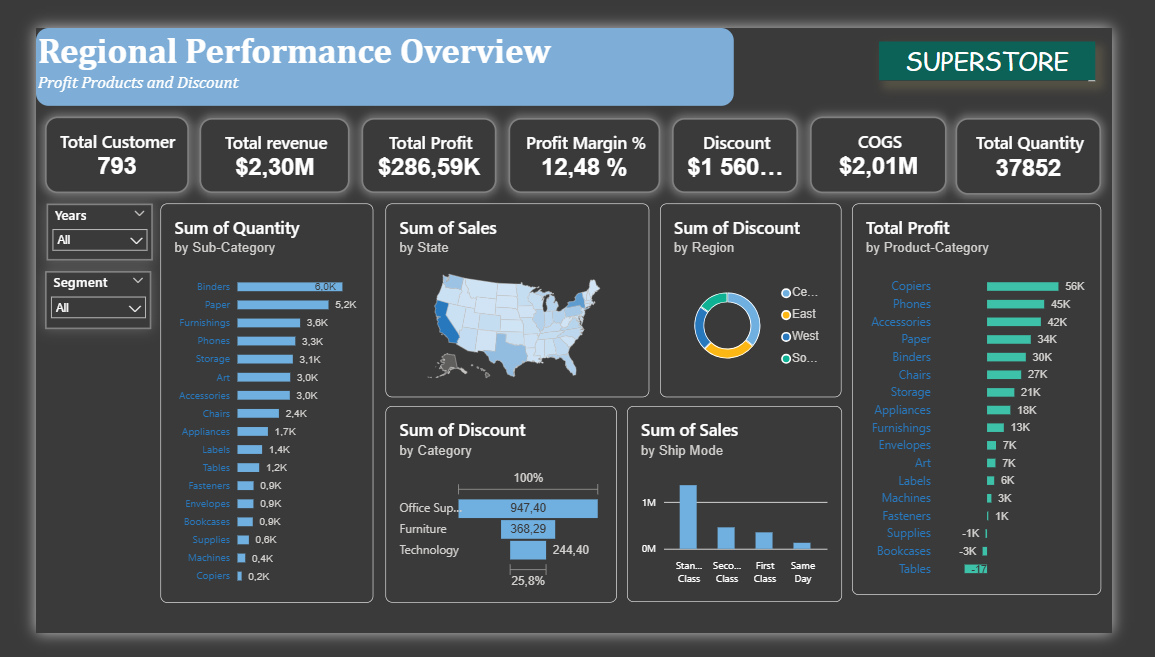

Layout of this report page (visuals, bound fields, positions):
{"tool":"powerbi","page":{"name":"Regional","canvas":[1280,720],"ordinal":2},"visuals":[{"type":"textbox","title":"Regional Performance Overview","box":[0,0,830.4,92.9],"z":0},{"type":"slicer","fields":{"Values":["Sample - Superstore - Sample - Superstore csv (3).Segment"]},"box":[10.7,289.3,126.8,69.6],"z":6000},{"type":"slicer","fields":{"Values":["Sample - Superstore - Sample - Superstore csv (3).Order Year"]},"box":[12.5,208.9,126.8,67.9],"z":7000},{"type":"clusteredBarChart","title":"Total Profit","fields":{"Category":["Superstore.Sub-Category"],"Y":["Sum(Superstore.Profit)"]},"box":[971.4,208.9,296.4,466.1],"z":8000},{"type":"textbox","title":"SUPERSTORE","box":[1003.9,16.3,257.1,47.2],"z":10000},{"type":"shapeMap","fields":{"Value":["Sum(Superstore.Sales)"],"Category":["Superstore.State"]},"box":[416.1,208.9,314.3,230.4],"z":11000},{"type":"clusteredBarChart","fields":{"Y":["Sum(Superstore.Quantity)"],"Category":["Superstore.Sub-Category"]},"box":[148.2,208.9,253.6,475],"z":12000},{"type":"funnel","fields":{"Y":["Sum(Superstore.Discount)"],"Category":["Superstore.Category"]},"box":[416.1,450,275,233.9],"z":13000},{"type":"donutChart","fields":{"Category":["Superstore.Region"],"Y":["Sum(Superstore.Discount)"]},"box":[742.9,208.9,216.1,230.4],"z":14000},{"type":"clusteredColumnChart","fields":{"Y":["Sum(Superstore.Sales)"],"Category":["Superstore.Ship Mode"]},"box":[703.5,450.9,256.1,233.3],"z":15000},{"type":"card","title":"Total revenue","fields":{"Values":["Sum(Sample - Superstore - Sample - Superstore csv (3).Sales)"]},"box":[194.6,107.1,178.6,89.3],"z":15001},{"type":"card","title":"Total Profit","fields":{"Values":["Sum(Sample - Superstore - Sample - Superstore csv (3).Profit)"]},"box":[387.5,107.1,160.7,89.3],"z":15002},{"type":"card","title":"Profit Margin %","fields":{"Values":["Superstore.total profit margin"]},"box":[562.5,107.1,180.4,89.3],"z":15003},{"type":"card","title":"Total Quantity","fields":{"Values":["Sum(Sample - Superstore - Sample - Superstore csv (3).Quantity)"]},"box":[1094.6,107.1,173.2,91.1],"z":15004},{"type":"card","title":" Discount","fields":{"Values":["Sum(Sample - Superstore - Sample - Superstore csv (3).Discount)"]},"box":[757.1,107.1,150,89.3],"z":15005},{"type":"card","title":"COGS","fields":{"Values":["Sum(Superstore.Cost of goods sold)"]},"box":[921.4,105.4,162.5,91.1],"z":15006},{"type":"card","title":"Total Customer","fields":{"Values":["Count(Superstore.Customer Name)"]},"box":[10.7,105.4,171.4,91.1],"z":15007}]}

Visuals, with their boxes in screenshot pixels (x1, y1, x2, y2), scaled from the page's 1280x720 canvas onto the 1155x657 screenshot:
"Regional Performance Overview" textbox: rect(0, 0, 749, 85)
slicer - Sample - Superstore - Sample - Superstore csv (3).Segment: rect(10, 264, 124, 327)
slicer - Sample - Superstore - Sample - Superstore csv (3).Order Year: rect(11, 191, 126, 253)
"Total Profit" clusteredBarChart: rect(877, 191, 1144, 616)
"SUPERSTORE" textbox: rect(906, 15, 1138, 58)
shapeMap - Sum(Superstore.Sales) x Superstore.State: rect(375, 191, 659, 401)
clusteredBarChart - Sum(Superstore.Quantity) x Superstore.Sub-Category: rect(134, 191, 363, 624)
funnel - Sum(Superstore.Discount) x Superstore.Category: rect(375, 411, 624, 624)
donutChart - Superstore.Region x Sum(Superstore.Discount): rect(670, 191, 865, 401)
clusteredColumnChart - Sum(Superstore.Sales) x Superstore.Ship Mode: rect(635, 411, 866, 624)
"Total revenue" card: rect(176, 98, 337, 179)
"Total Profit" card: rect(350, 98, 495, 179)
"Profit Margin %" card: rect(508, 98, 670, 179)
"Total Quantity" card: rect(988, 98, 1144, 181)
" Discount" card: rect(683, 98, 819, 179)
"COGS" card: rect(831, 96, 978, 179)
"Total Customer" card: rect(10, 96, 164, 179)
